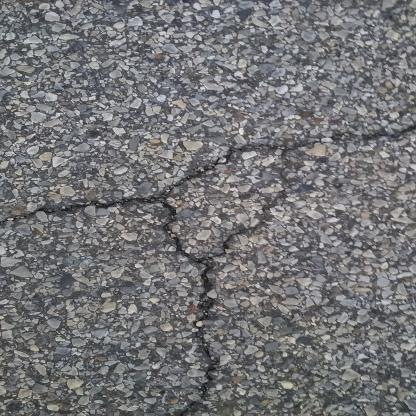Cracks: (21, 124, 415, 415)
